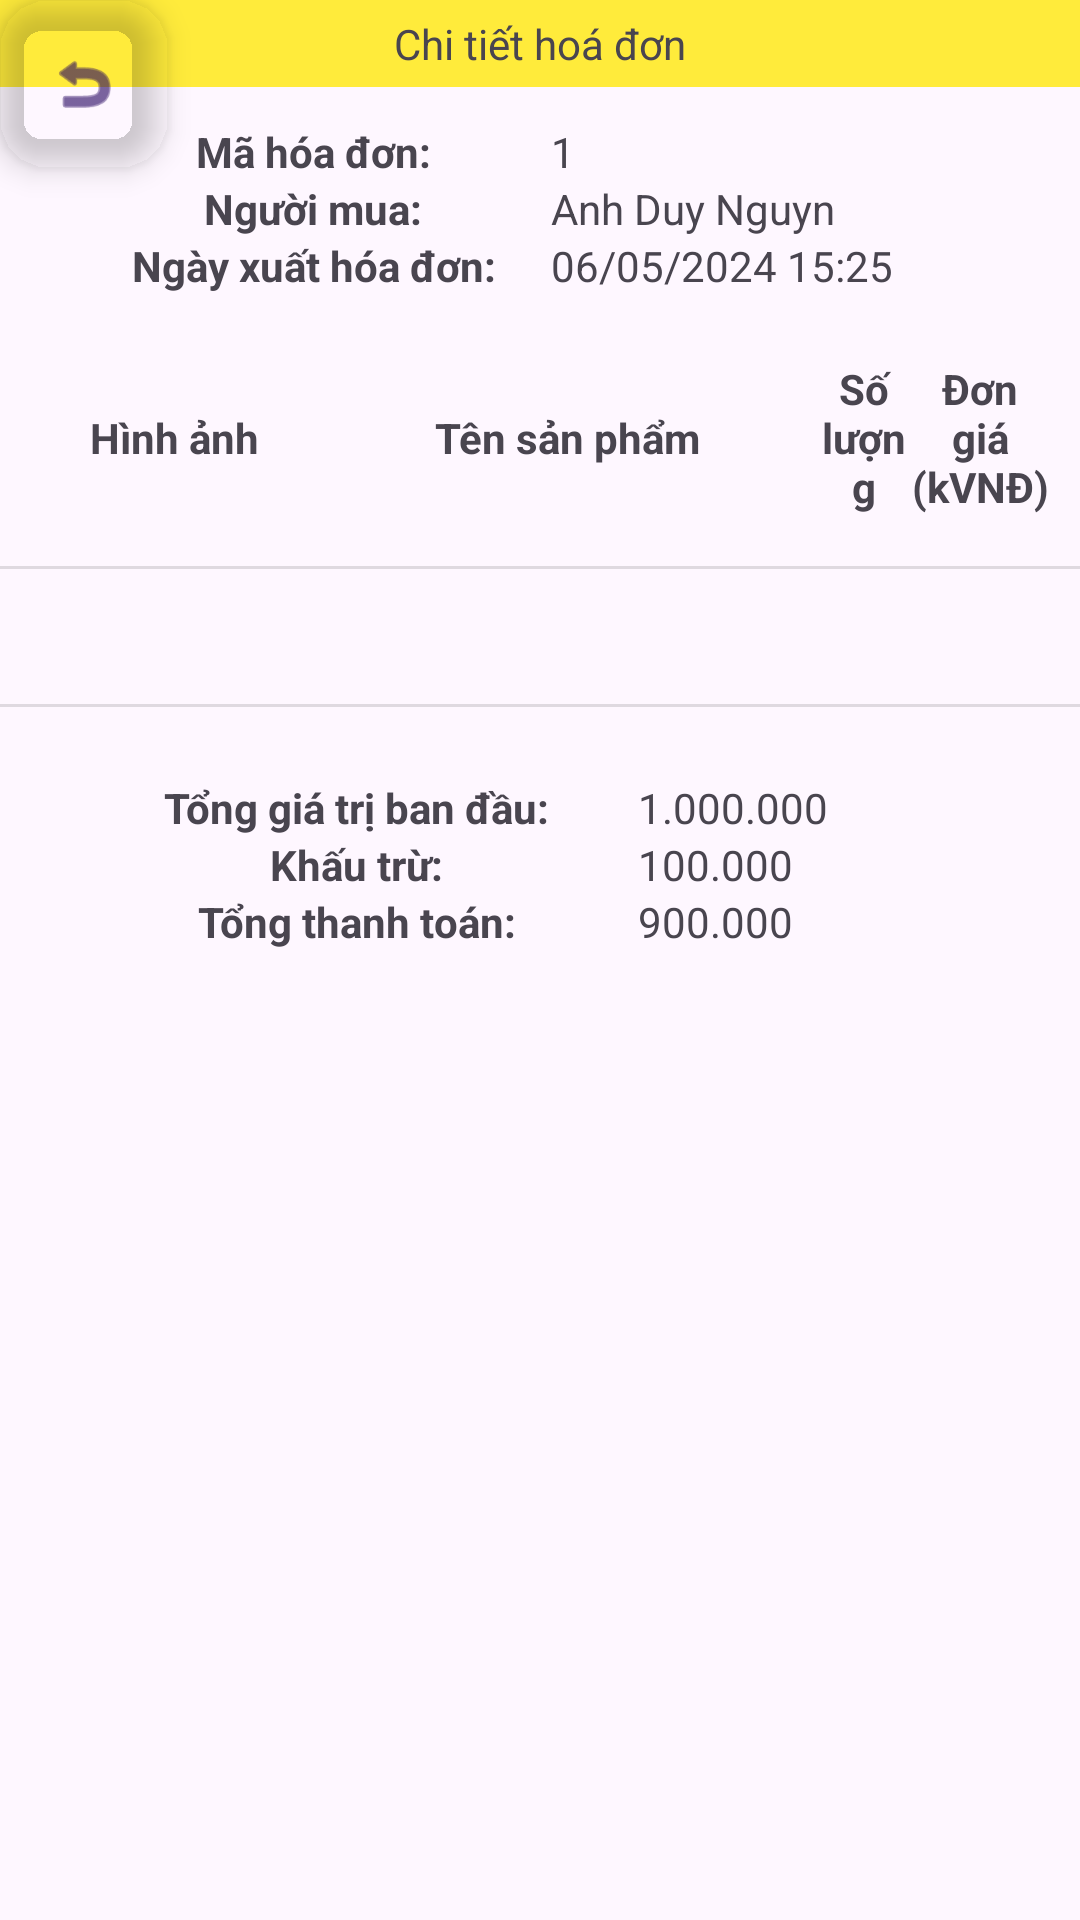

Screen size 1080w x 1920h. Icon name, then its center in pixels as (x,y):
revert: (84,77)
